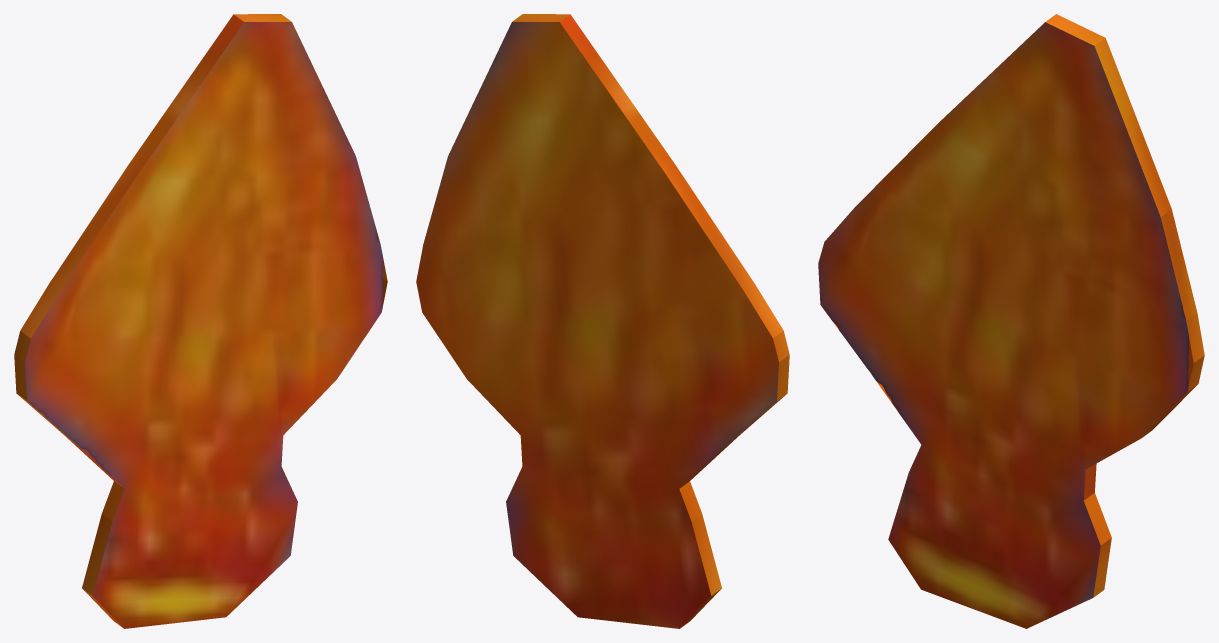
File: Balao6.fbx
3 views of the same model, side by side, from view 1: azimuth 30°, elevation 25°; view 2: azimuth 150°, elevation 25°; view 3: azimuth 330°, elevation 25° (orthographic). The views are drawn at different scales.
Visible parts, largest first — view 1: Circle.007; view 2: Circle.007; view 3: Circle.007.
Part boxes in pixels (x1,y1,x2,y2): Circle.007: (14, 14, 387, 628); Circle.007: (416, 14, 789, 628); Circle.007: (818, 14, 1204, 628).
Size of the model in its own units: 20.42 by 31.77 by 1.05.
1 material, 1 textured.
